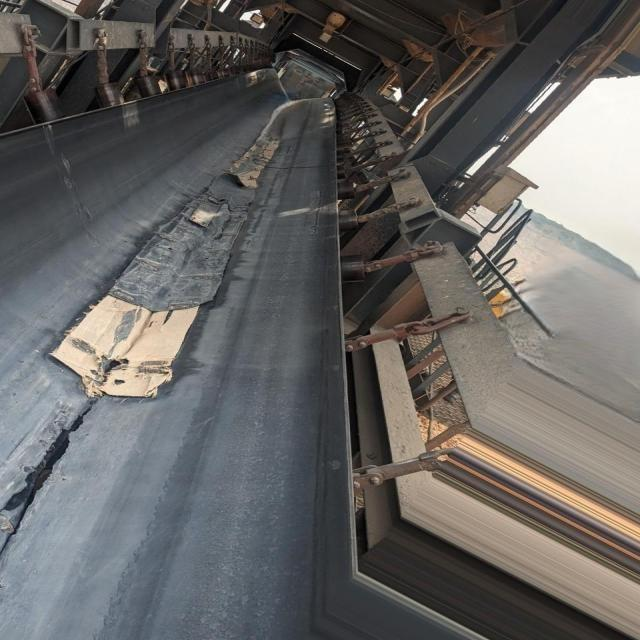Tear: (0, 414, 84, 558)
